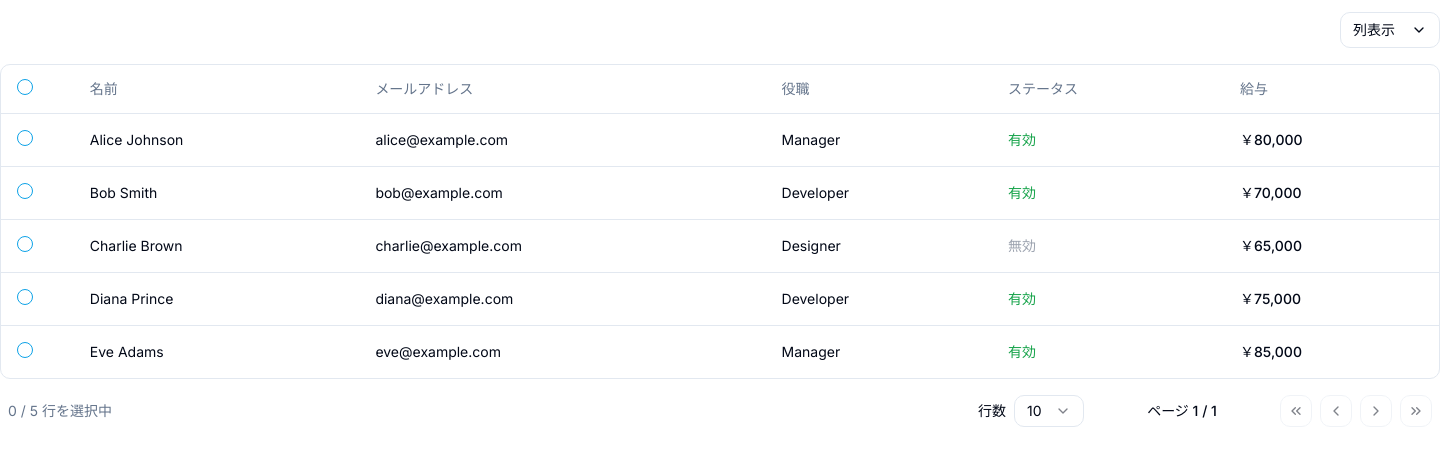
Test case: DataTable › Row Selection › deselect all works
Note: Select all
Click the checkbox named "Select all".
click(25, 87)  # box [17,79,33,95]
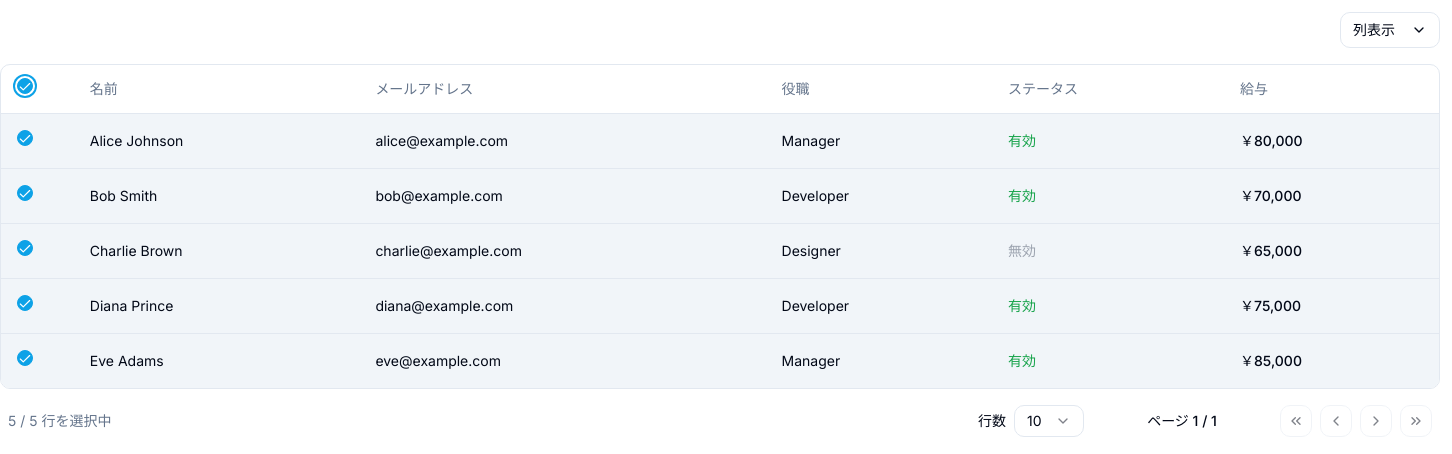
Now the text "5 / 5 行を選択中" is shown, box [8,410,112,430]
Note: Deselect all
Click the checkbox named "Select all".
click(25, 86)  # box [17,78,33,94]
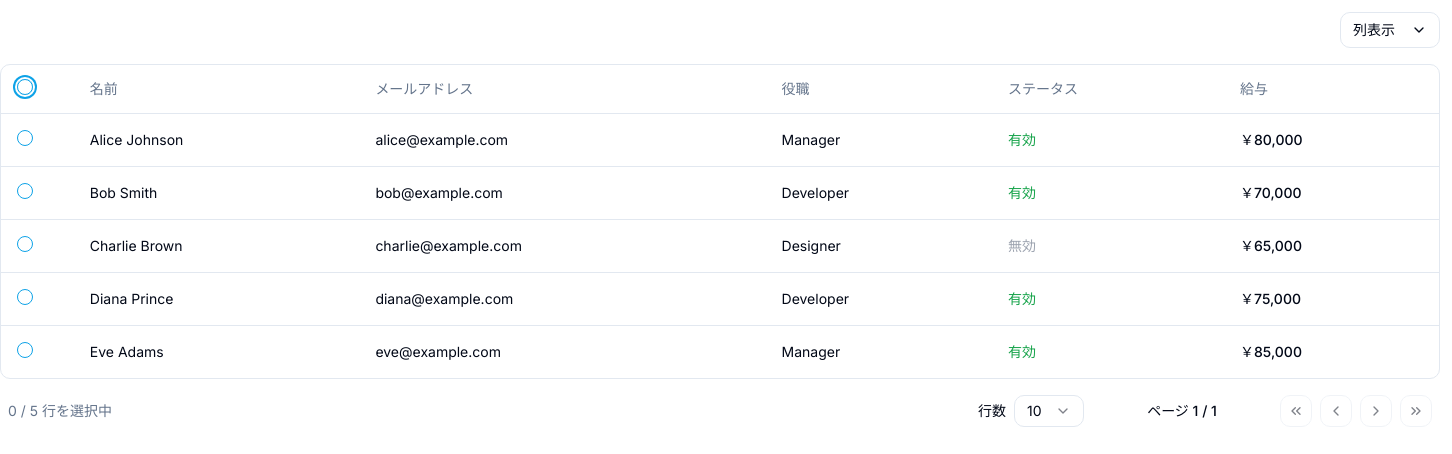
Now the text "0 / 5 行を選択中" is shown, box [8,400,112,420]
